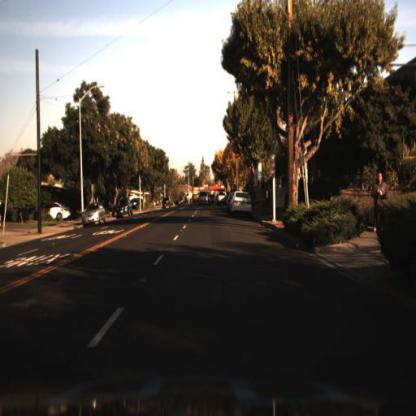car: (30, 201, 71, 224), (230, 188, 254, 218), (81, 200, 105, 227), (115, 199, 136, 221), (197, 190, 211, 211), (161, 195, 172, 213)
pedestrian: (372, 173, 390, 233)
